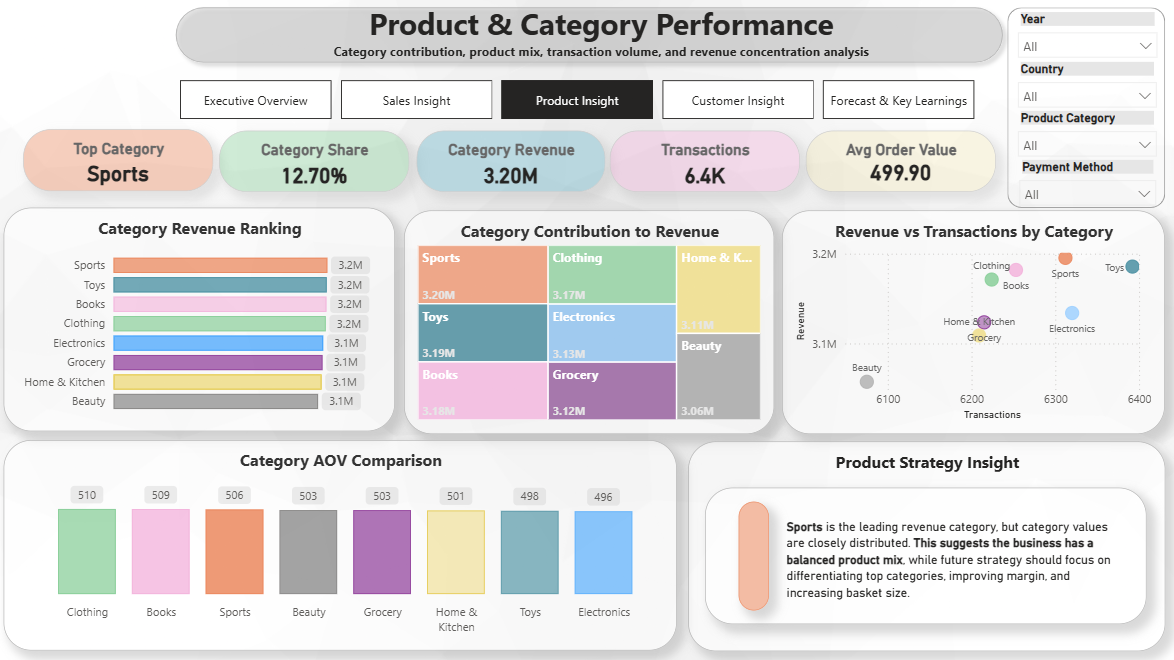

This screenshot's page, from the dashboard's own definition file:
{"tool":"powerbi","page":{"name":"Product Insight","canvas":[1280,720],"ordinal":2},"visuals":[{"type":"shape","box":[183.8,0,913.2,77.9],"z":0},{"type":"textbox","box":[327.8,0,651.3,98.9],"z":1000},{"type":"pageNavigator","box":[197,88,864.7,42.4],"z":2000},{"type":"shape","box":[1093.1,9.2,170.8,217],"z":3000},{"type":"slicer","fields":{"Values":["Dim Country.Country"]},"box":[1094.2,65,170,56.7],"z":4000},{"type":"slicer","fields":{"Values":["Dim Date.Year"]},"box":[1093.3,9.2,170.8,61.7],"z":5000},{"type":"slicer","fields":{"Values":["Dim Product.Product Category"]},"box":[1094.2,118,170,55.8],"z":6000},{"type":"slicer","fields":{"Values":["Dim Payment Method.Payment Method"]},"box":[1096.2,171.5,167.7,56.9],"z":7000},{"type":"card","title":"Top Category","fields":{"Values":["Measure Table.Top Category by Revenue"]},"box":[27.1,141.4,205.7,67.1],"z":8000},{"type":"card","title":"Category Share","fields":{"Values":["Measure Table.Top Category Share %"]},"box":[240,142.5,205.8,66.7],"z":9000},{"type":"card","title":"Category Revenue","fields":{"Values":["Measure Table.Top Category Revenue"]},"box":[452.5,141.7,204.2,66.7],"z":10000},{"type":"card","title":"Transactions","fields":{"Values":["Measure Table.Top Category Transactions"]},"box":[662.5,141.7,205.8,66.7],"z":11000},{"type":"card","title":"Avg Order Value","fields":{"Values":["Measure Table.Top Category AOV"]},"box":[874.2,141.7,205.8,66.7],"z":12000},{"type":"clusteredBarChart","title":"Category Revenue Ranking","fields":{"Category":["Dim Product.Product Category"],"Y":["Measure Table.Total Revenue"]},"box":[6.4,226.4,423.6,241.8],"z":13000},{"type":"treemap","title":"Category Contribution to Revenue","fields":{"Group":["Dim Product.Product Category"],"Values":["Measure Table.Total Revenue"]},"box":[440,228.2,400.9,241.8],"z":14000},{"type":"scatterChart","title":"Revenue vs Transactions by Category","fields":{"Category":["Dim Product.Product Category"],"X":["Measure Table.Total Transactions"],"Y":["Measure Table.Total Revenue"]},"box":[849.1,228.2,414.5,241.8],"z":15000},{"type":"shape","title":"Product Strategy Insight","box":[747.3,478.2,516.4,227.3],"z":16000},{"type":"shape","title":"Market Leadership Insight","box":[765.5,528.2,478.2,148.2],"z":17000},{"type":"textbox","box":[849.1,555.5,363.6,144.5],"z":18000},{"type":"shape","title":"Market Leadership Insight","box":[800.9,543.6,32.7,118.2],"z":19000},{"type":"clusteredColumnChart","title":"Category AOV Comparison","fields":{"Category":["Dim Product.Product Category"],"Y":["Measure Table.Average Order Value"]},"box":[6.7,477.8,728.9,227.8],"z":20000}]}

Visuals, with their boxes in screenshot pixels (x1, y1, x2, y2), scaled from the page's 1280x720 canvas onto the 1174x660 screenshot:
shape: bbox(169, 0, 1006, 71)
textbox: bbox(301, 0, 898, 91)
pageNavigator: bbox(181, 81, 974, 120)
shape: bbox(1003, 8, 1159, 207)
slicer - Dim Country.Country: bbox(1004, 60, 1160, 112)
slicer - Dim Date.Year: bbox(1003, 8, 1159, 65)
slicer - Dim Product.Product Category: bbox(1004, 108, 1160, 159)
slicer - Dim Payment Method.Payment Method: bbox(1005, 157, 1159, 209)
"Top Category" card: bbox(25, 130, 214, 191)
"Category Share" card: bbox(220, 131, 409, 192)
"Category Revenue" card: bbox(415, 130, 602, 191)
"Transactions" card: bbox(608, 130, 796, 191)
"Avg Order Value" card: bbox(802, 130, 991, 191)
"Category Revenue Ranking" clusteredBarChart: bbox(6, 208, 394, 429)
"Category Contribution to Revenue" treemap: bbox(404, 209, 771, 431)
"Revenue vs Transactions by Category" scatterChart: bbox(779, 209, 1159, 431)
"Product Strategy Insight" shape: bbox(685, 438, 1159, 647)
"Market Leadership Insight" shape: bbox(702, 484, 1141, 620)
textbox: bbox(779, 509, 1112, 642)
"Market Leadership Insight" shape: bbox(735, 498, 765, 607)
"Category AOV Comparison" clusteredColumnChart: bbox(6, 438, 675, 647)
